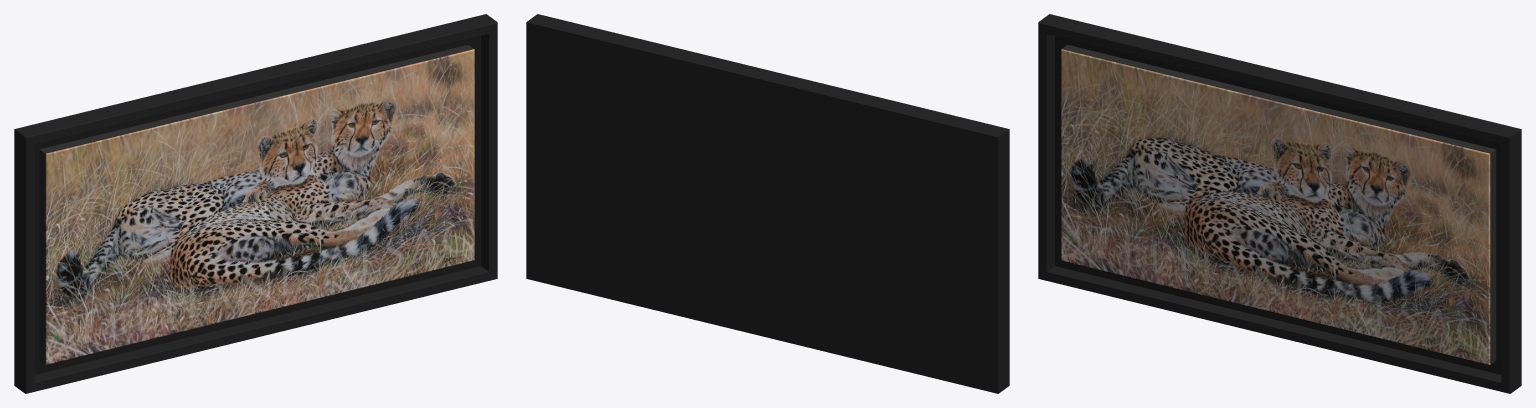
The model's file is tableau-toile-guepards-classique-2f557da0.glb.
3 views of the same model, side by side, from view 1: azimuth 30°, elevation 25°; view 2: azimuth 150°, elevation 25°; view 3: azimuth 330°, elevation 25° (orthographic).
Parts seen in each view (by area): view 1: Painting; view 2: Painting; view 3: Painting.
Part boxes in pixels (left/top/right/bottom): Painting: left=14, top=14, right=497, bottom=393; Painting: left=526, top=14, right=1009, bottom=393; Painting: left=1038, top=14, right=1521, bottom=393.
Size of the model in its own units: 0.936 by 0.486 by 0.04.
4 materials, 2 textured.
